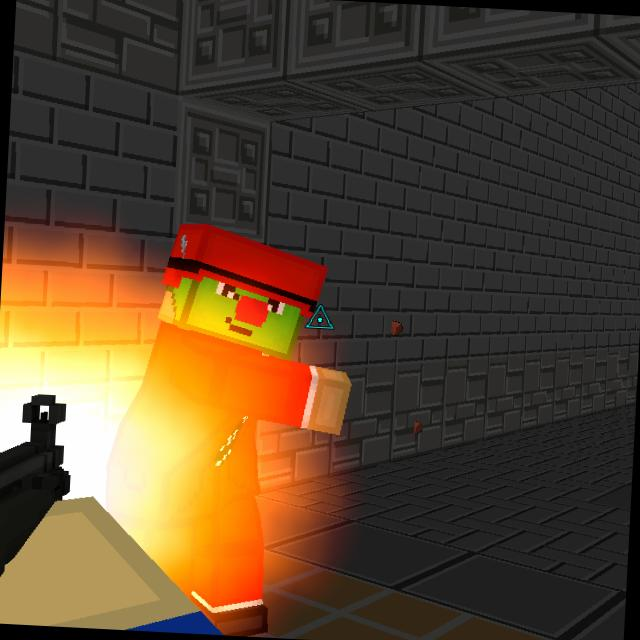enemy: (93, 203, 363, 640)
